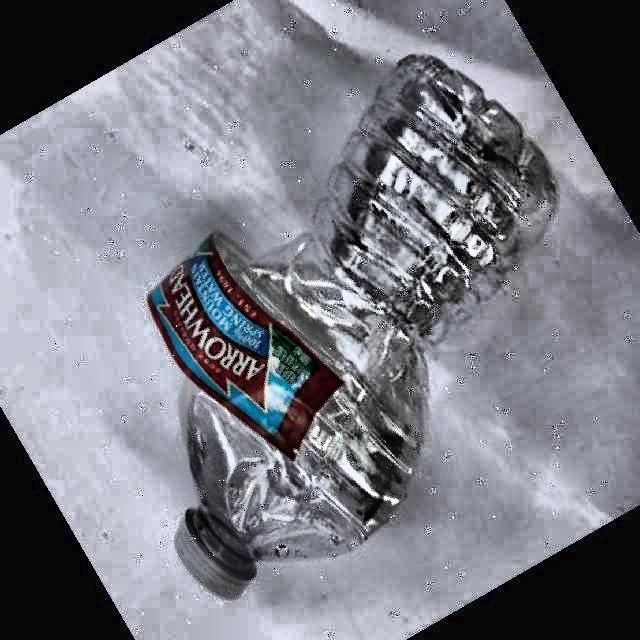plastic: (149, 58, 555, 598)
